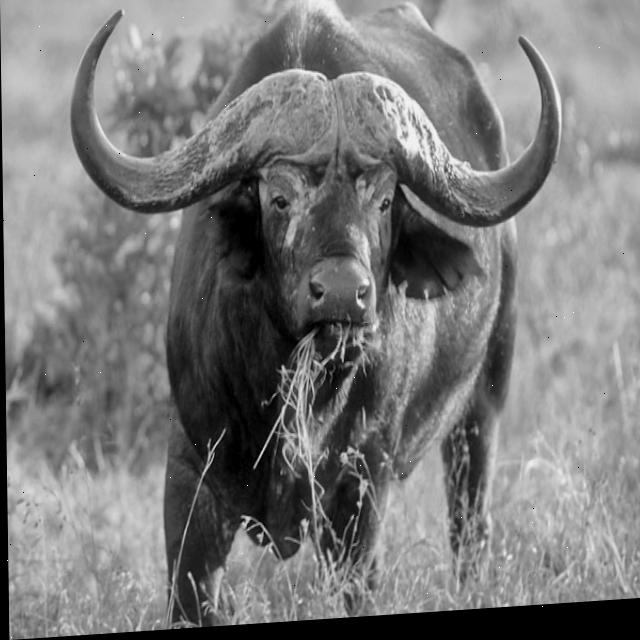Buffalo: (71, 0, 572, 635)
